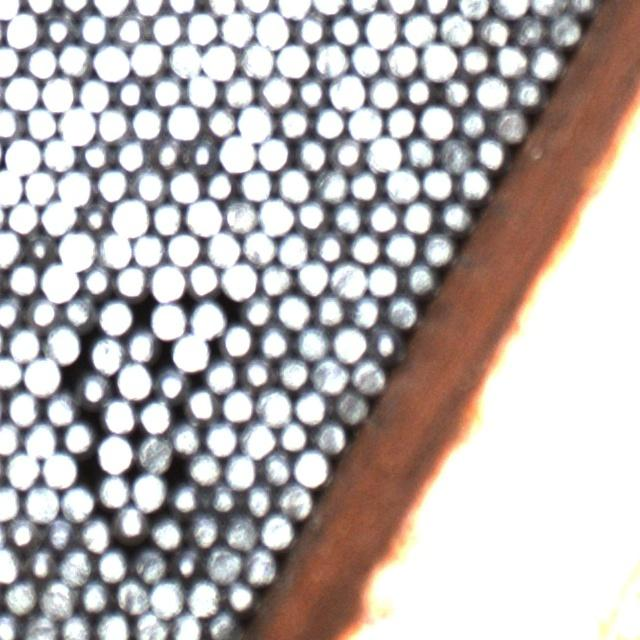tool: (23, 356, 60, 393), (43, 325, 80, 362), (221, 260, 257, 298), (204, 229, 241, 265), (40, 263, 77, 299), (112, 198, 148, 235), (189, 300, 225, 337), (312, 355, 348, 392), (254, 10, 290, 47), (5, 388, 42, 424), (186, 197, 222, 234), (148, 262, 184, 299), (151, 302, 187, 339), (242, 547, 278, 584), (130, 231, 166, 267), (331, 325, 367, 361), (219, 134, 255, 170), (4, 136, 40, 172), (4, 11, 40, 47), (257, 388, 293, 424), (6, 326, 42, 362), (59, 231, 95, 267), (166, 230, 202, 266), (114, 578, 150, 614), (258, 260, 294, 296), (92, 44, 128, 80), (294, 324, 330, 360), (24, 484, 60, 520), (22, 104, 58, 140), (61, 292, 97, 328), (206, 546, 242, 582), (132, 546, 168, 582), (186, 260, 221, 297), (347, 104, 382, 141), (421, 42, 456, 79), (173, 333, 208, 370), (130, 104, 165, 140), (238, 104, 273, 140), (329, 73, 364, 109), (60, 484, 95, 520), (366, 134, 401, 170), (59, 106, 94, 142), (112, 10, 148, 45), (39, 579, 74, 615), (295, 258, 330, 294), (256, 134, 291, 170), (258, 72, 293, 108), (219, 387, 255, 422), (40, 74, 75, 110), (5, 260, 40, 296), (94, 106, 129, 142), (136, 434, 171, 470), (240, 421, 276, 456), (40, 198, 76, 233), (184, 72, 220, 107), (76, 9, 111, 45), (182, 385, 218, 420), (184, 132, 219, 168), (260, 512, 295, 548), (239, 41, 274, 77), (401, 11, 436, 47), (222, 196, 257, 232), (57, 169, 92, 205), (383, 166, 419, 201), (58, 549, 94, 584), (222, 452, 257, 488), (97, 231, 132, 267), (100, 396, 135, 432), (275, 42, 311, 77), (276, 292, 311, 328), (79, 260, 114, 296), (149, 580, 184, 616), (384, 41, 419, 77), (292, 450, 328, 485), (76, 368, 111, 404), (333, 388, 369, 423), (275, 354, 310, 390), (97, 434, 131, 471), (331, 262, 366, 297), (419, 103, 454, 138), (439, 11, 474, 46), (41, 135, 76, 170), (166, 103, 201, 138), (41, 451, 76, 486), (184, 10, 219, 45), (438, 137, 473, 172), (203, 357, 238, 392), (113, 502, 148, 537), (131, 474, 166, 509), (5, 198, 40, 233), (186, 512, 221, 547), (5, 451, 40, 486), (220, 73, 255, 108), (77, 577, 112, 612), (257, 323, 292, 358), (276, 232, 311, 267), (439, 73, 474, 108), (129, 40, 164, 75), (203, 103, 238, 138), (276, 166, 311, 201), (5, 511, 40, 546), (276, 104, 311, 139), (23, 422, 58, 457), (24, 293, 59, 328), (43, 391, 78, 426), (149, 133, 184, 168), (420, 230, 455, 265), (312, 419, 347, 454), (114, 262, 148, 298), (4, 578, 38, 614), (186, 579, 220, 615), (90, 336, 124, 372), (242, 228, 276, 264), (258, 197, 292, 233), (366, 198, 400, 234), (3, 74, 39, 108), (116, 362, 150, 398), (42, 8, 76, 44), (492, 106, 526, 142), (328, 10, 362, 46), (474, 13, 510, 47), (218, 322, 254, 356), (202, 42, 236, 78), (137, 397, 171, 433), (204, 419, 238, 455), (348, 40, 382, 76), (401, 198, 435, 234), (168, 544, 204, 578), (148, 72, 182, 108), (224, 513, 258, 549), (76, 198, 112, 232), (365, 11, 399, 46), (220, 9, 254, 44), (384, 230, 418, 265), (312, 104, 346, 139), (383, 104, 418, 138), (367, 73, 401, 108), (294, 389, 328, 424), (76, 76, 111, 110), (313, 228, 347, 263), (294, 197, 328, 232), (294, 10, 328, 45), (77, 517, 112, 551), (240, 353, 274, 388), (238, 166, 273, 200), (329, 134, 364, 168), (294, 136, 329, 170), (148, 10, 182, 45), (313, 166, 347, 201), (205, 479, 240, 513), (242, 481, 276, 516), (167, 168, 202, 202), (95, 166, 129, 201), (493, 42, 528, 76), (511, 12, 546, 46), (154, 364, 189, 398), (23, 44, 58, 78), (241, 292, 276, 326), (476, 74, 510, 109), (169, 480, 203, 515), (455, 104, 490, 138), (94, 547, 128, 582), (131, 167, 166, 201), (150, 199, 184, 234), (403, 134, 437, 169), (312, 42, 347, 76), (352, 358, 386, 393), (57, 42, 92, 76), (22, 228, 56, 263), (367, 324, 402, 358), (384, 293, 419, 327), (366, 262, 400, 296), (331, 199, 365, 233), (348, 230, 382, 264), (294, 74, 328, 108), (42, 514, 76, 548), (420, 166, 454, 200), (168, 42, 202, 76), (113, 74, 147, 108), (260, 450, 294, 484), (78, 136, 112, 170), (458, 40, 492, 74), (277, 482, 311, 516), (202, 166, 236, 200), (313, 292, 347, 326), (347, 168, 381, 202), (60, 419, 94, 453), (22, 168, 56, 202), (547, 12, 581, 46), (348, 294, 382, 328), (148, 515, 182, 549), (24, 545, 58, 579), (456, 164, 490, 198), (96, 473, 130, 507), (403, 260, 437, 294), (124, 328, 158, 362), (439, 198, 473, 232), (99, 299, 132, 334), (223, 578, 256, 613), (115, 136, 148, 170), (188, 450, 221, 484), (276, 418, 309, 452), (170, 421, 203, 455), (474, 136, 508, 169), (403, 72, 436, 106), (133, 609, 169, 640), (511, 74, 544, 107), (205, 609, 240, 640), (529, 46, 561, 79), (95, 611, 130, 640), (59, 612, 94, 640), (21, 613, 57, 640), (170, 611, 203, 640), (0, 420, 23, 456), (0, 294, 24, 328), (0, 354, 23, 389), (0, 484, 22, 519), (0, 168, 22, 203), (0, 230, 21, 266), (0, 42, 21, 78), (0, 546, 20, 582), (0, 104, 21, 138), (0, 609, 22, 640), (456, 0, 491, 17), (276, 0, 312, 16), (529, 0, 564, 16), (494, 0, 528, 16), (130, 0, 166, 15), (92, 0, 128, 15), (202, 0, 238, 15), (166, 0, 200, 15), (420, 0, 454, 15), (238, 0, 274, 14), (382, 0, 418, 14), (346, 0, 381, 14), (312, 0, 346, 14), (23, 0, 57, 14), (58, 0, 92, 13), (564, 0, 598, 13)
